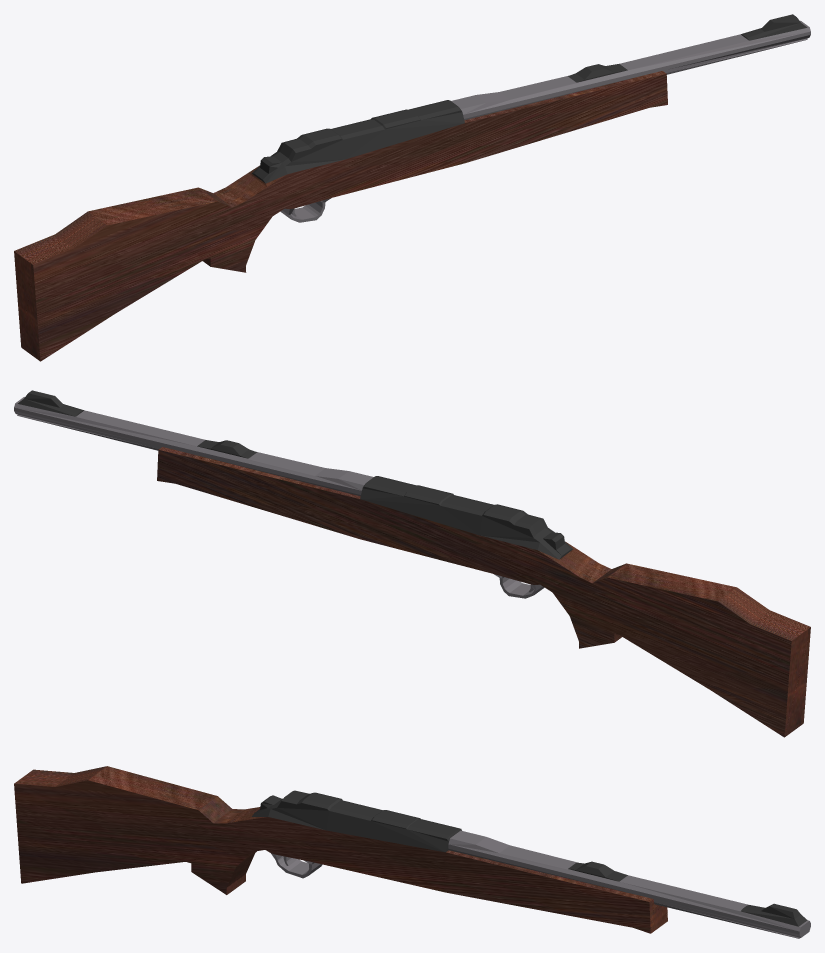
File: gun.fbx
The picture shows the model from 3 angles, top to bottom: view 1: azimuth 30°, elevation 25°; view 2: azimuth 150°, elevation 25°; view 3: azimuth 330°, elevation 25°; orthographic projection.
Parts seen in each view (by area): view 1: Cube.001; view 2: Cube.001; view 3: Cube.001.
Boxes of the visible parts, x1,y1,x2,y2 form: Cube.001: [14, 14, 810, 361]; Cube.001: [14, 390, 810, 737]; Cube.001: [14, 766, 810, 938].
Bounding box in the file's own units: 15.02 × 2.8 × 0.6422.
